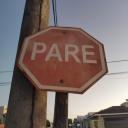Pare: (15, 24, 111, 96)
